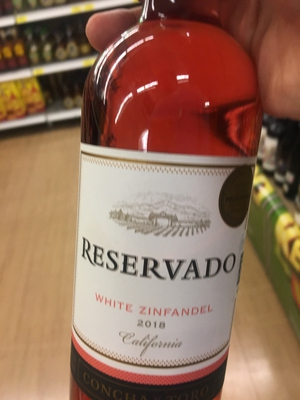reservado white zinfandel: (69, 13, 258, 400)
